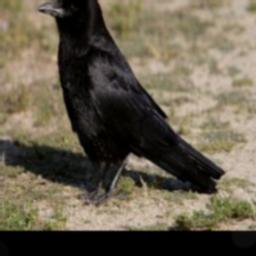Crow: (35, 0, 226, 206)
